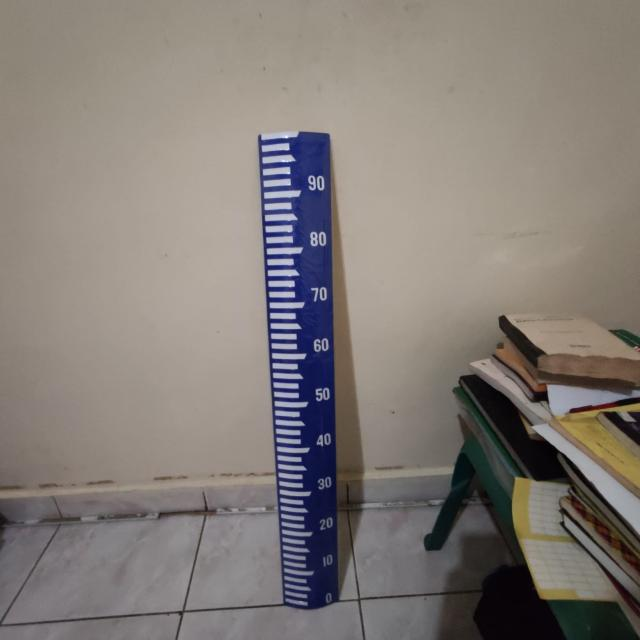water-meter: (250, 121, 355, 617)
